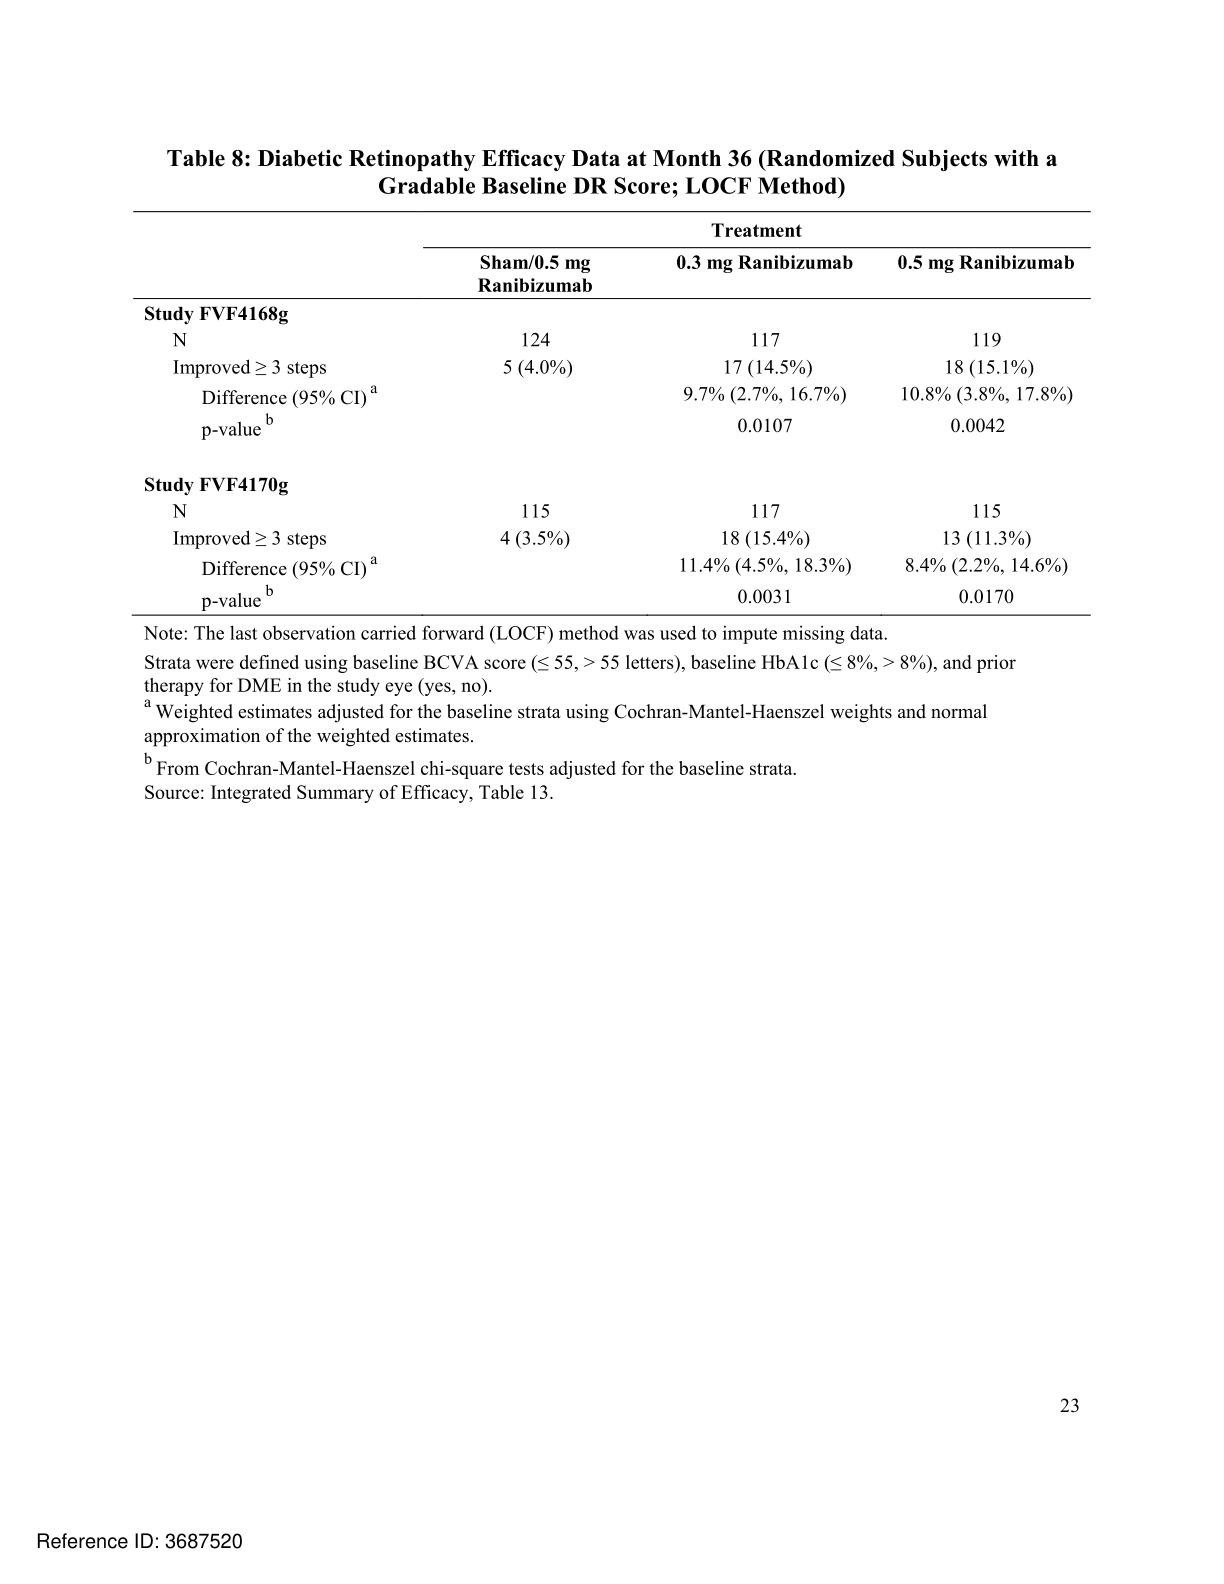partial_lined_merged_cells: (129, 210, 1092, 618)
